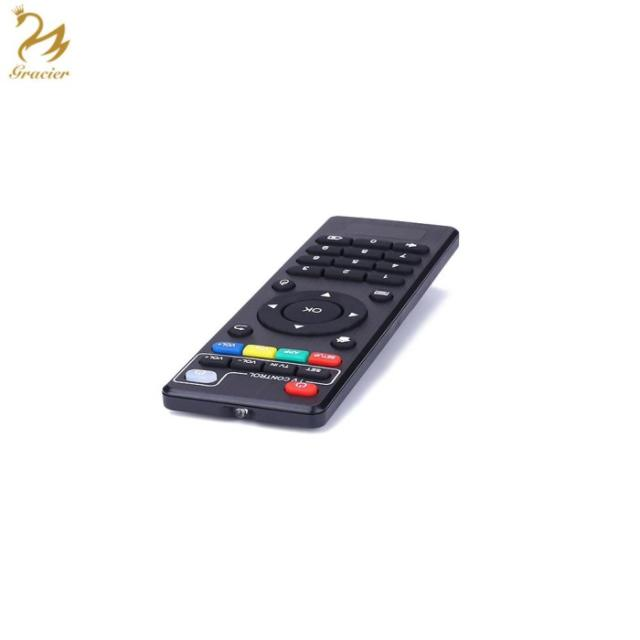remote: (165, 212, 470, 433)
